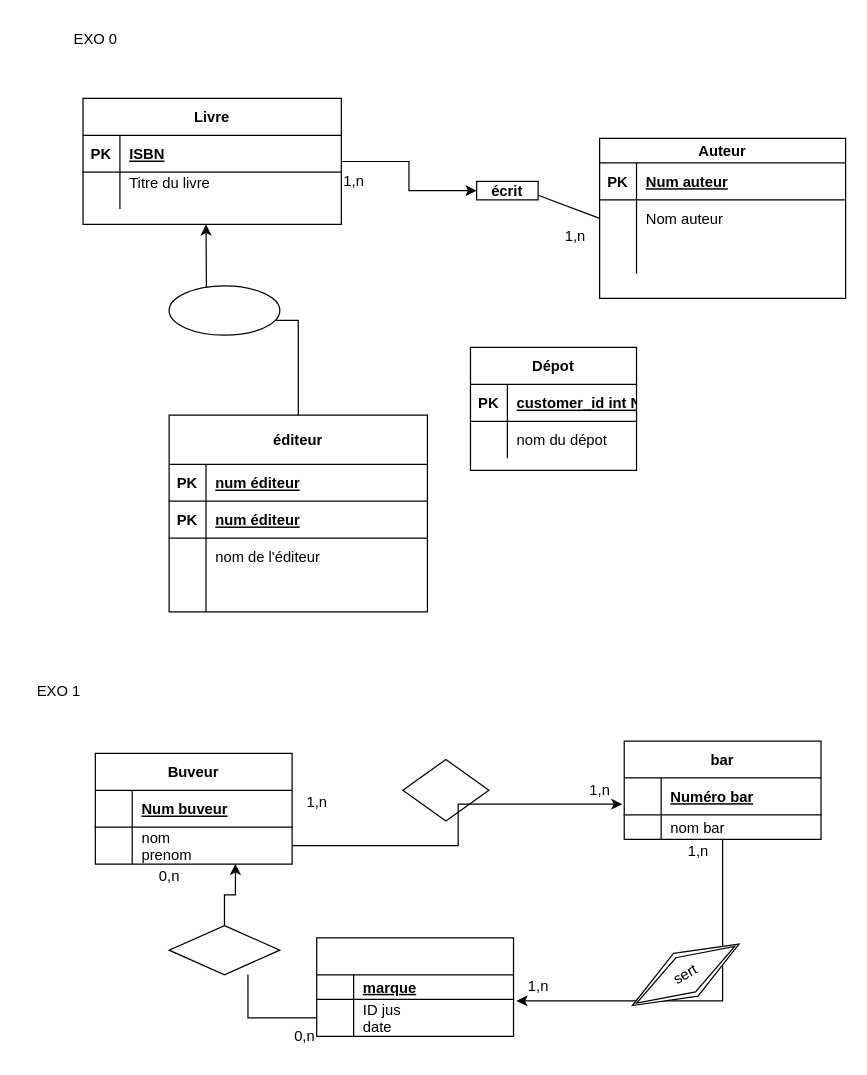
The diagram is 867 pixels wide and 1075 high, and some of its shapes have lost their labels. Each missing label, with the box of its shape:
aime: (168, 924, 280, 975)
editer: (168, 285, 280, 335)
fréquente: (402, 758, 489, 821)
Marque jus: (315, 937, 514, 1036)
